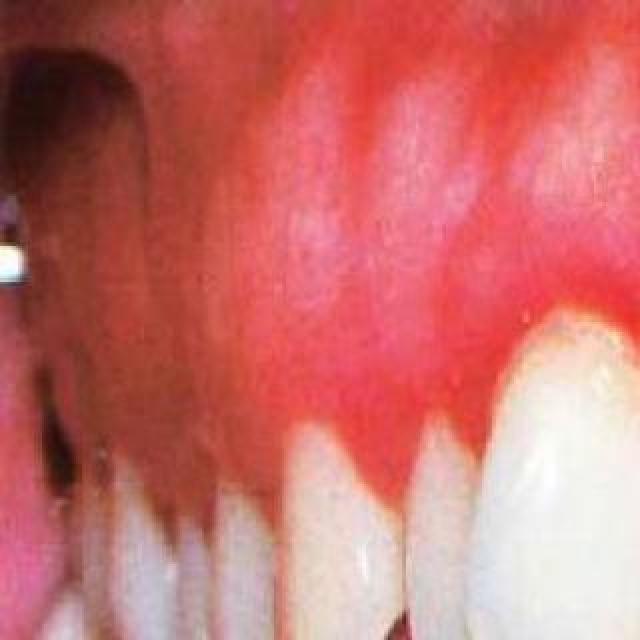maligned: (466, 294, 640, 640), (444, 274, 640, 526), (384, 412, 522, 640), (144, 494, 272, 640)
